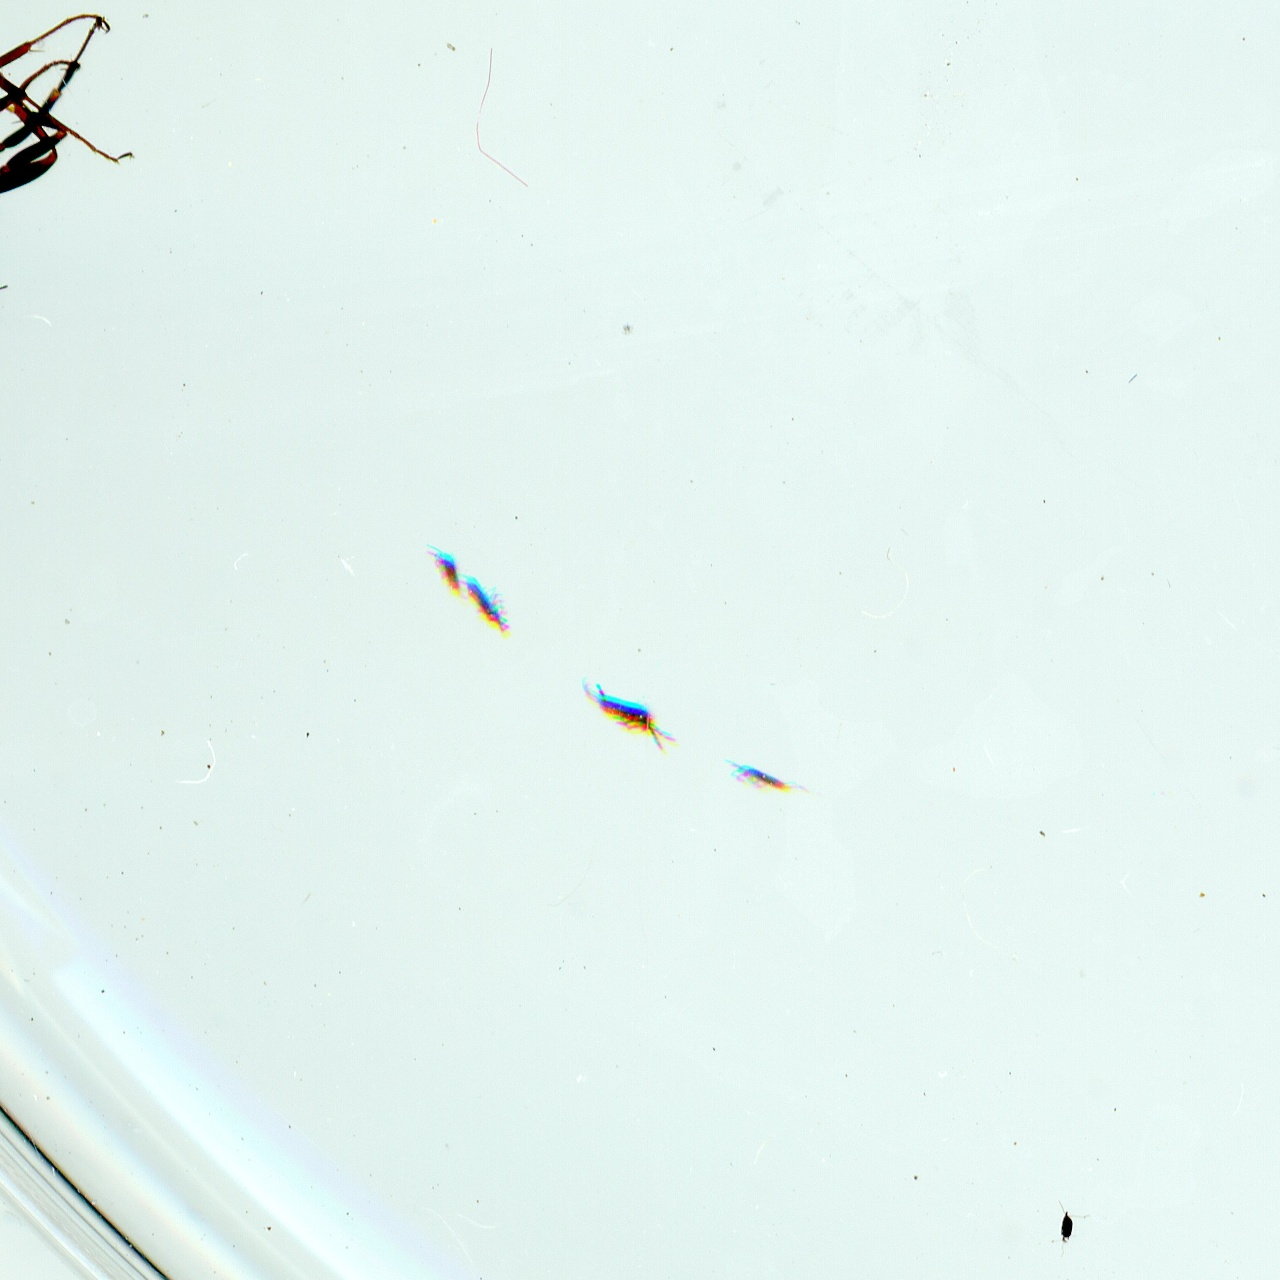arthropod: (0, 2, 154, 477), (576, 669, 678, 753), (454, 558, 525, 647), (721, 755, 815, 796), (424, 540, 461, 598)
